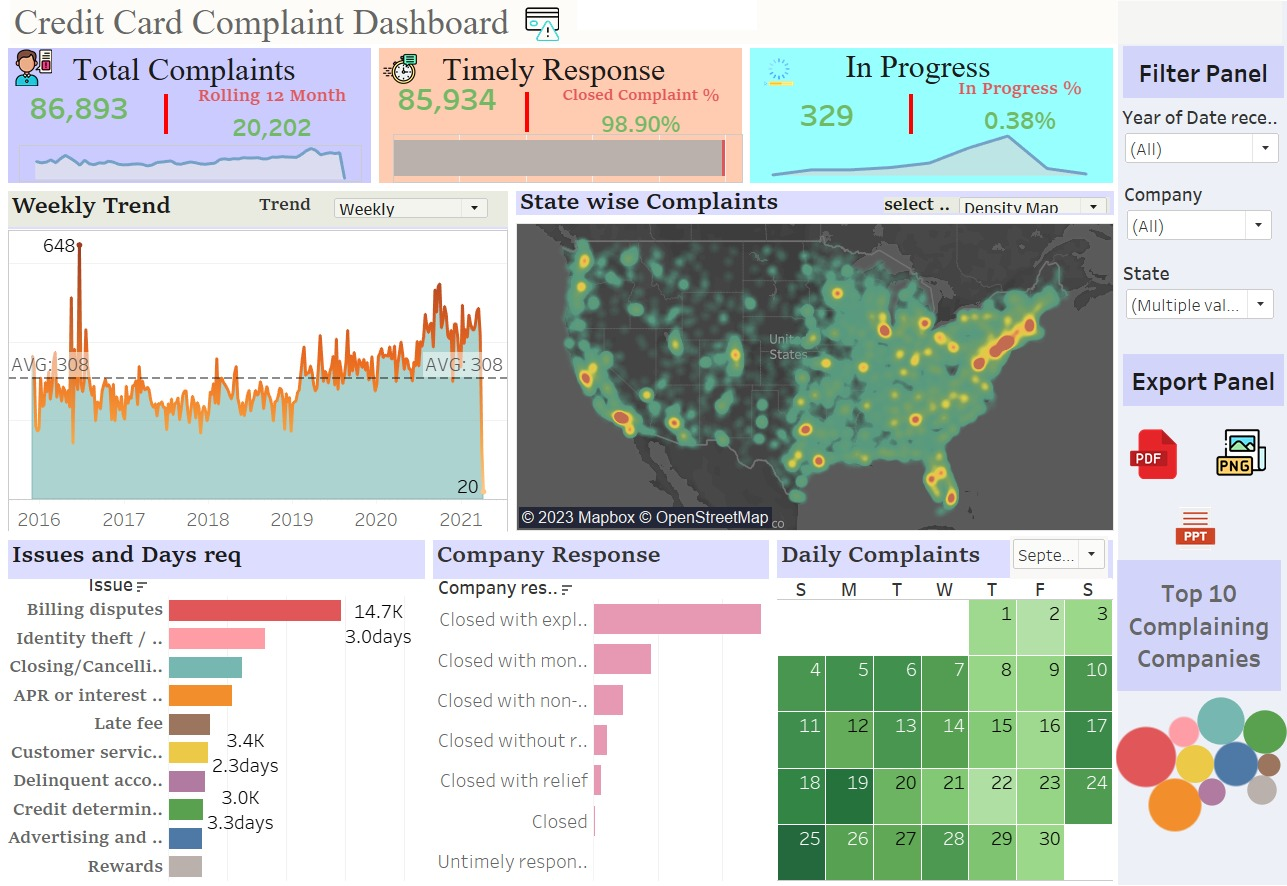

The dashboard page shown, as its layout file describes it:
{"tool":"tableau","page":{"name":"Dashboard 1","canvas":[1300,900],"ordinal":0},"visuals":[{"type":"blank","box":[581,1,180,36]},{"type":"text","box":[14,6,1272,45]},{"type":"image","param":"C:/Users/arif shaikh/Downloads/Tableau P2/credit-card.png","box":[529,14,96,34]},{"type":"blank","box":[8,51,371.2,143]},{"type":"blank","box":[379.2,51,371.2,143]},{"type":"blank","box":[750.5,51,371.2,143]},{"type":"text","box":[782,52,280,42]},{"type":"text","box":[1127,53,161,52]},{"type":"text","box":[48,55,280,43]},{"type":"text","box":[417,55,281,42]},{"type":"image","param":"C:/Users/arif shaikh/Downloads/Tableau P2/complain.png","box":[19,56,37,40]},{"type":"image","param":"C:/Users/arif shaikh/Downloads/Tableau P2/response.png","box":[386,58,46,35]},{"type":"image","param":"C:/Users/arif shaikh/Downloads/Tableau P2/buffering.png","box":[767,63,55,31]},{"type":"worksheet","title":"Total Complaints","mark":"Automatic","box":[8,76,149,75]},{"type":"worksheet","title":"Timely Response","mark":"Automatic","box":[388,79,126,51]},{"type":"worksheet","title":"In Prog%","mark":"Automatic","box":[936,85,176,60]},{"type":"worksheet","title":"Closed percent","mark":"Automatic","box":[559,88,172,64]},{"type":"worksheet","title":"In Prog","mark":"Automatic","box":[758,88,146,66]},{"type":"worksheet","title":"Rolling12","mark":"Automatic","box":[171,94,209,56]},{"type":"blank","box":[529,99,4,40]},{"type":"blank","box":[168,101,4,40]},{"type":"blank","box":[913,101,4,40]},{"type":"filter","title":"Trend","param":"[federated.0js1h3w0qhtg1w1133hol19v8l2g].[yr:Date received:ok]","box":[1126,111,160,62]},{"type":"worksheet","title":"Spark3","mark":"Automatic","rows":["Calculation_325666592354553856","Calculation_325666592354553856"],"cols":["Date received"],"box":[759,139,348,46]},{"type":"worksheet","title":"Bullete","mark":"Bar","cols":["Calculation_760545431177490439","Calculation_760545431175970821"],"box":[397,141,350,49]},{"type":"worksheet","title":"Complaint Sparline","mark":"Automatic","rows":["Number of Records","Number of Records"],"cols":["Date received"],"box":[23,152,343,37]},{"type":"filter","title":"Trend","param":"[federated.0js1h3w0qhtg1w1133hol19v8l2g].[none:Company:nk]","box":[1128,188,151,74]},{"type":"worksheet","title":"Trend","mark":"Automatic","rows":["Number of Records","Number of Records"],"cols":["Calculation_325666592373047298"],"box":[8,194,507.5,349]},{"type":"text","box":[515.5,194,606.2,32]},{"type":"parameter","param":"[Parameters].[Parameter 2]","box":[263.2,202.2,231.8,30.7]},{"type":"parameter","param":"[Parameters].[Parameter 3]","box":[888,204,226,16]},{"type":"worksheet","title":"Density Map","mark":"Heatmap","box":[515.5,226,606.2,316]},{"type":"filter","title":"Trend","param":"[federated.0js1h3w0qhtg1w1133hol19v8l2g].[none:State:nk]","box":[1127,267,154,75]},{"type":"text","box":[1127,361,161,52]},{"type":"dashboard-object","box":[1220,429,50,60]},{"type":"dashboard-object","box":[1132,431,50,60]},{"type":"dashboard-object","box":[1174,505,50,60]},{"type":"worksheet","title":"filled map","mark":"Multipolygon","box":[515.5,542,606.2,1]},{"type":"worksheet","title":"issues","mark":"Automatic","rows":["Issue"],"cols":["Number of Records"],"box":[8,543,425.1,349]},{"type":"worksheet","title":"com resp","mark":"Automatic","rows":["Company response to consumer"],"cols":["Number of Records"],"box":[433.1,543,344.3,349]},{"type":"worksheet","title":"cal","mark":"Square","rows":["Date received"],"cols":["Date received"],"box":[777.4,543,344.3,349]},{"type":"filter","title":"cal","param":"[federated.0js1h3w0qhtg1w1133hol19v8l2g].[my:Date received:ok]","box":[1014,543.2,97.5,43.4]},{"type":"text","box":[1121,567,164,131]},{"type":"worksheet","title":"5 com comp","mark":"Circle","box":[1120,686,171,206]}]}

Visuals, with their boxes in screenshot pixels (x1, y1, x2, y2), scaled from the page's 1300x900 canvas onto the 1287x886 screenshot:
blank: box=[575, 1, 753, 36]
text: box=[14, 6, 1273, 50]
image: box=[524, 14, 619, 47]
blank: box=[8, 50, 375, 191]
blank: box=[375, 50, 743, 191]
blank: box=[743, 50, 1110, 191]
text: box=[774, 51, 1051, 93]
text: box=[1116, 52, 1275, 103]
text: box=[48, 54, 325, 96]
text: box=[413, 54, 691, 95]
image: box=[19, 55, 55, 95]
image: box=[382, 57, 428, 92]
image: box=[759, 62, 814, 93]
"Total Complaints" worksheet: box=[8, 75, 155, 149]
"Timely Response" worksheet: box=[384, 78, 509, 128]
"In Prog%" worksheet: box=[927, 84, 1101, 143]
"Closed percent" worksheet: box=[553, 87, 724, 150]
"In Prog" worksheet: box=[750, 87, 895, 152]
"Rolling12" worksheet: box=[169, 93, 376, 148]
blank: box=[524, 97, 528, 137]
blank: box=[166, 99, 170, 139]
blank: box=[904, 99, 908, 139]
"Trend" filter: box=[1115, 109, 1273, 170]
"Spark3" worksheet: box=[751, 137, 1096, 182]
"Bullete" worksheet (Bar marks): box=[393, 139, 740, 187]
"Complaint Sparline" worksheet: box=[23, 150, 362, 186]
"Trend" filter: box=[1117, 185, 1266, 258]
"Trend" worksheet: box=[8, 191, 510, 535]
text: box=[510, 191, 1110, 222]
parameter: box=[261, 199, 490, 229]
parameter: box=[879, 201, 1103, 217]
"Density Map" worksheet (Heatmap marks): box=[510, 222, 1110, 534]
"Trend" filter: box=[1116, 263, 1268, 337]
text: box=[1116, 355, 1275, 407]
dashboard-object: box=[1208, 422, 1257, 481]
dashboard-object: box=[1121, 424, 1170, 483]
dashboard-object: box=[1162, 497, 1212, 556]
"filled map" worksheet (Multipolygon marks): box=[510, 534, 1110, 535]
"issues" worksheet: box=[8, 535, 429, 878]
"com resp" worksheet: box=[429, 535, 770, 878]
"cal" worksheet (Square marks): box=[770, 535, 1110, 878]
"cal" filter: box=[1004, 535, 1100, 577]
text: box=[1110, 558, 1272, 687]
"5 com comp" worksheet (Circle marks): box=[1109, 675, 1278, 878]
